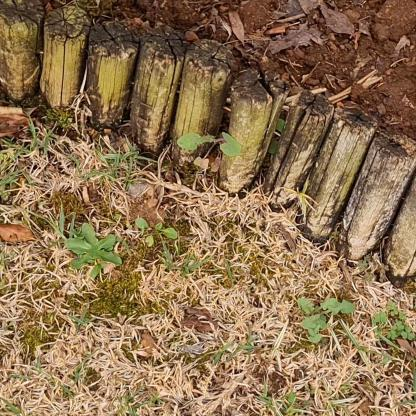Weeds: (66, 221, 123, 278), (297, 293, 355, 344), (181, 130, 247, 161), (135, 217, 177, 249)
